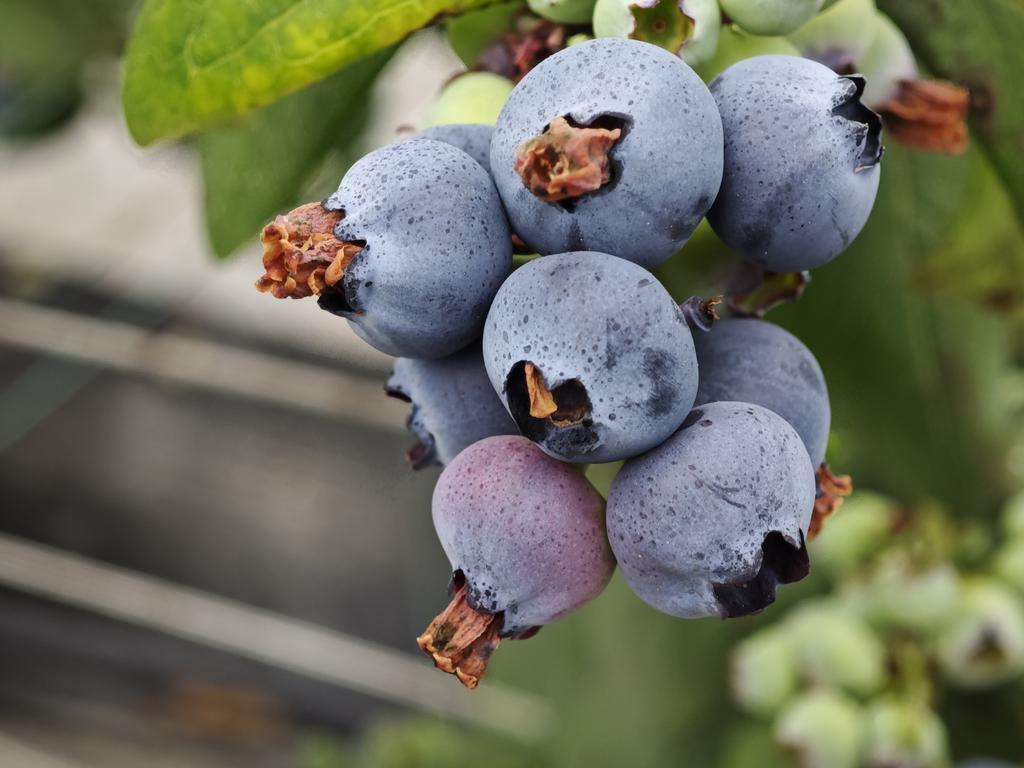RipeBlueBerry: (487, 34, 728, 262), (479, 245, 705, 468), (603, 398, 821, 627), (289, 135, 502, 365), (709, 49, 891, 279)
Semi-RipeBlueBerry: (419, 429, 616, 672)
